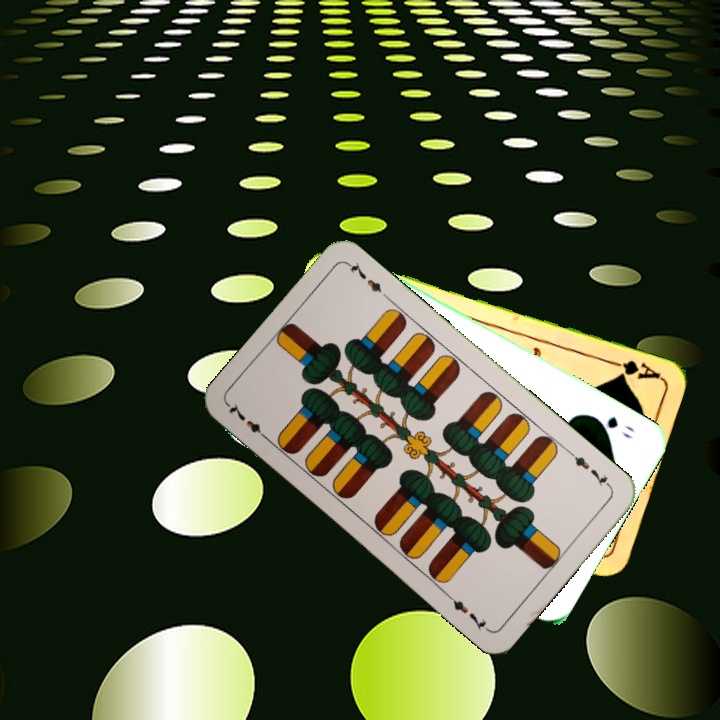E7: (224, 399, 273, 444), (565, 447, 614, 491)
GA: (604, 356, 663, 382)
GO: (587, 411, 637, 442)
